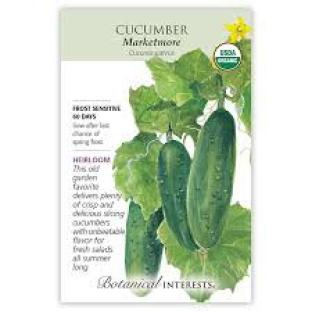Cucumber: (188, 109, 235, 248), (159, 141, 198, 250), (125, 202, 163, 281)
